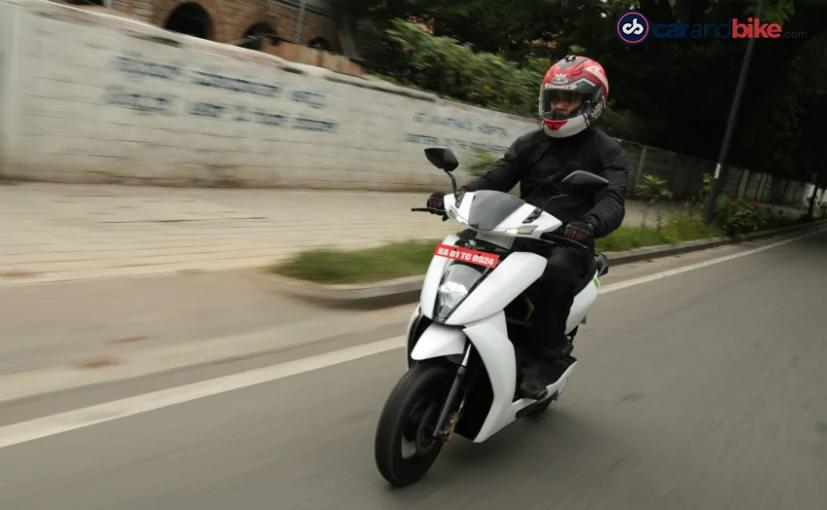helmet: (537, 55, 610, 140)
